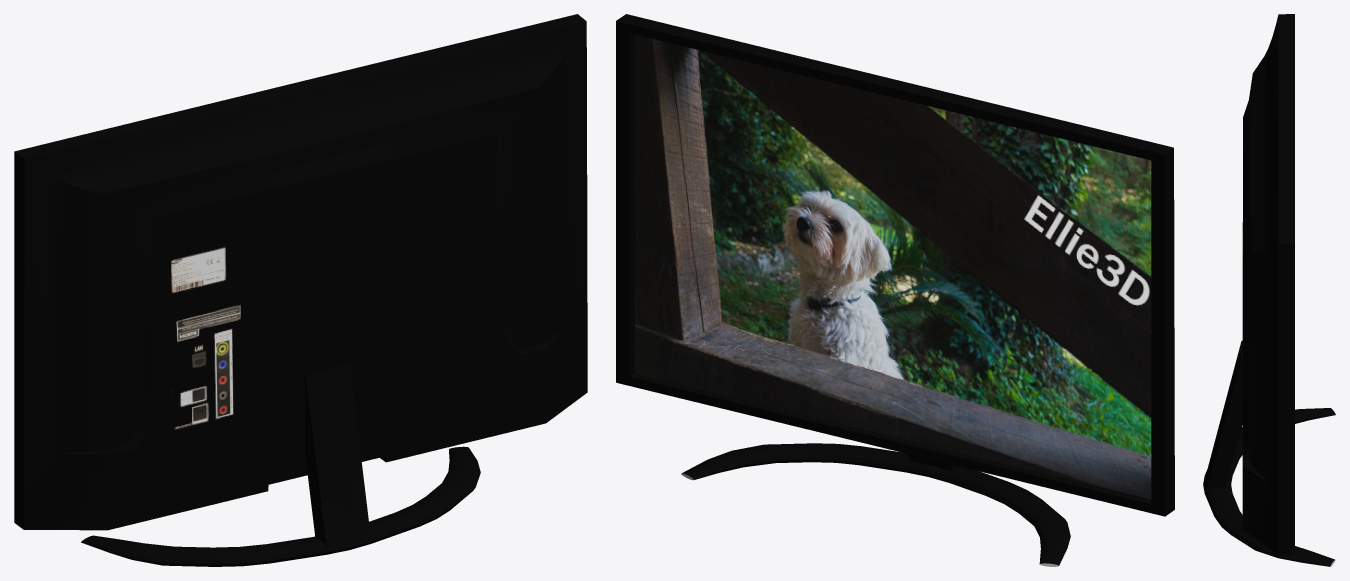
3 views of the same model, side by side, from view 1: azimuth 30°, elevation 25°; view 2: azimuth 150°, elevation 25°; view 3: azimuth 270°, elevation 25° (orthographic). The views are drawn at different scales.
Visible parts, largest first — view 1: TV; view 2: TV; view 3: TV.
Boxes of the visible parts, left/top/right/bottom form: TV: left=14, top=14, right=587, bottom=566; TV: left=616, top=14, right=1174, bottom=566; TV: left=1203, top=14, right=1335, bottom=566.
Size of the model in its own units: 1.15 by 0.841 by 0.2799.
Materials: 3 (2 with a texture image).
